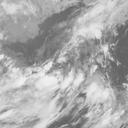cyclone: (30, 31, 98, 105)
